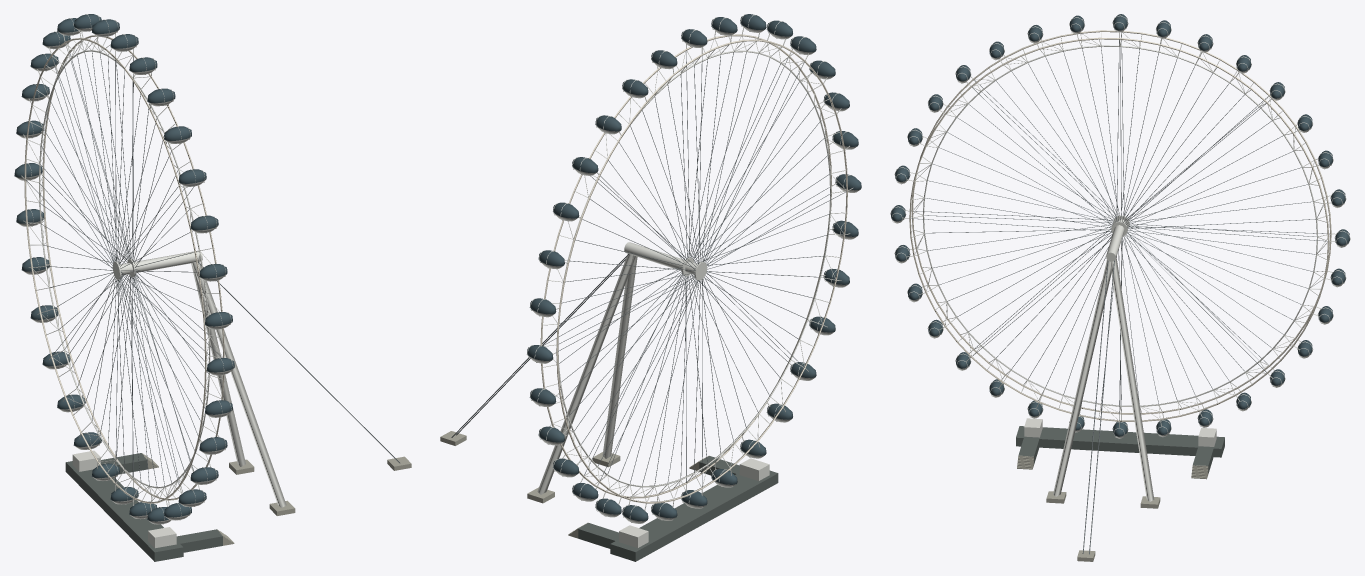
Rendered from london-eye-far.glb.
3 views of the same model, side by side, from view 1: azimuth 30°, elevation 25°; view 2: azimuth 150°, elevation 25°; view 3: azimuth 270°, elevation 25° (orthographic). The views are drawn at different scales.
Parts seen in each view (by area): view 1: london-eye-0-steel, london-eye-0-cable, london-eye-0-glass, london-eye-0-light, london-eye-0-deck, london-eye-0-concrete; view 2: london-eye-0-cable, london-eye-0-steel, london-eye-0-glass, london-eye-0-deck, london-eye-0-light, london-eye-0-concrete; view 3: london-eye-0-cable, london-eye-0-steel, london-eye-0-glass, london-eye-0-light, london-eye-0-deck, london-eye-0-concrete.
Part boxes in pixels (x1,y1,x2,y2): london-eye-0-steel: (15, 14, 286, 548); london-eye-0-cable: (25, 52, 400, 486); london-eye-0-glass: (14, 14, 234, 521); london-eye-0-light: (24, 35, 224, 503); london-eye-0-deck: (65, 453, 222, 561); london-eye-0-concrete: (142, 453, 411, 545); london-eye-0-cable: (451, 51, 846, 487); london-eye-0-steel: (527, 14, 860, 547); london-eye-0-glass: (527, 14, 861, 521); london-eye-0-deck: (578, 456, 778, 561); london-eye-0-light: (540, 34, 847, 503); london-eye-0-concrete: (440, 431, 709, 538); london-eye-0-cable: (911, 33, 1329, 554); london-eye-0-steel: (890, 15, 1350, 501); london-eye-0-glass: (891, 14, 1349, 436); london-eye-0-light: (909, 30, 1331, 421); london-eye-0-deck: (1016, 426, 1224, 473); london-eye-0-concrete: (1017, 455, 1208, 561).
Bounding box in the file's own units: 90.08 × 135 × 131.
